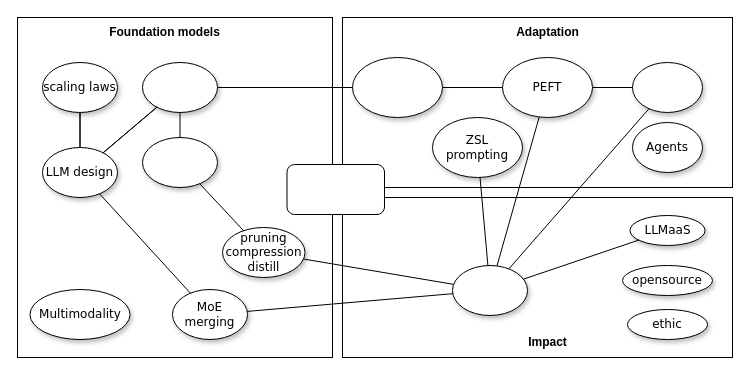
This 750x375 diagram has some shape labels left out. Here are the shapes that lost their labels. From the top down, the centre of each, then its label:
At pixel 181 89: "pretraining".
At pixel 398 88: "finetuning".
At pixel 668 89: "FSL, ICL RAG".
At pixel 181 163: "SGD geometry".
At pixel 335 189: "scaling laws evaluation".
At pixel 491 291: "low cost".
